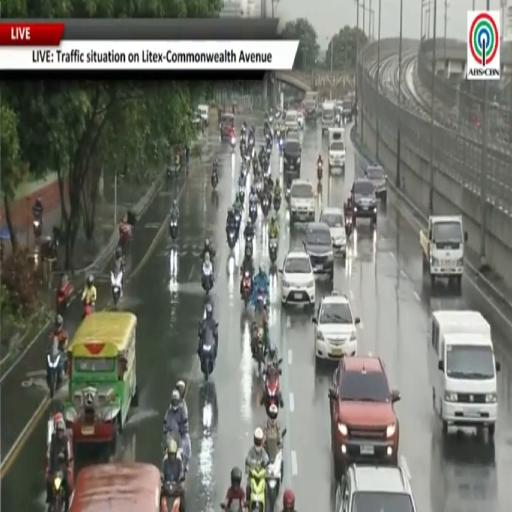car: (329, 355, 400, 481), (335, 457, 416, 511), (313, 292, 360, 359), (280, 251, 315, 306), (304, 222, 333, 281), (320, 207, 346, 257), (352, 179, 377, 227), (289, 180, 315, 226), (365, 165, 386, 202), (283, 139, 301, 178), (285, 110, 298, 131), (198, 104, 209, 125), (286, 131, 300, 143), (298, 111, 304, 130)
jeepney: (65, 312, 137, 449), (69, 462, 161, 511), (220, 114, 234, 139)
motorcycle: (262, 359, 282, 411), (199, 323, 216, 380), (267, 447, 282, 511), (248, 468, 266, 511), (161, 478, 184, 511), (47, 351, 62, 398), (49, 471, 65, 511), (252, 325, 264, 374), (57, 280, 73, 314), (201, 344, 214, 380), (111, 271, 122, 308), (119, 223, 132, 254), (242, 270, 252, 308), (202, 263, 213, 294), (269, 239, 278, 264), (33, 218, 42, 240), (170, 219, 178, 242), (83, 302, 94, 317), (245, 237, 253, 257), (249, 203, 257, 223), (345, 215, 352, 237), (228, 230, 236, 249), (262, 196, 269, 217), (210, 172, 218, 190), (255, 178, 263, 195), (264, 159, 270, 181), (235, 212, 241, 233), (274, 195, 281, 213), (278, 136, 284, 156), (317, 163, 323, 181), (230, 136, 236, 154), (248, 135, 254, 152), (244, 152, 250, 168), (239, 185, 245, 201), (285, 184, 290, 203), (267, 144, 272, 161), (268, 114, 274, 127)
truck: (420, 216, 467, 294), (303, 91, 318, 120)
